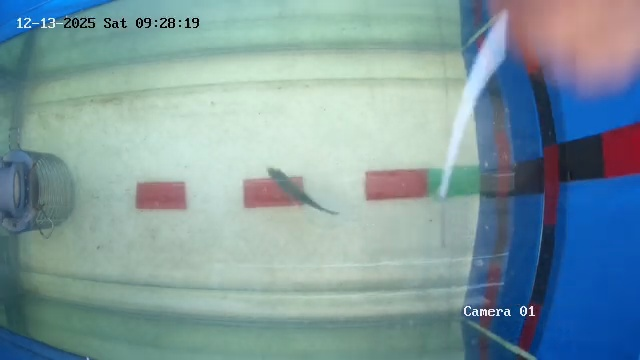fish: (275, 175, 350, 216)
